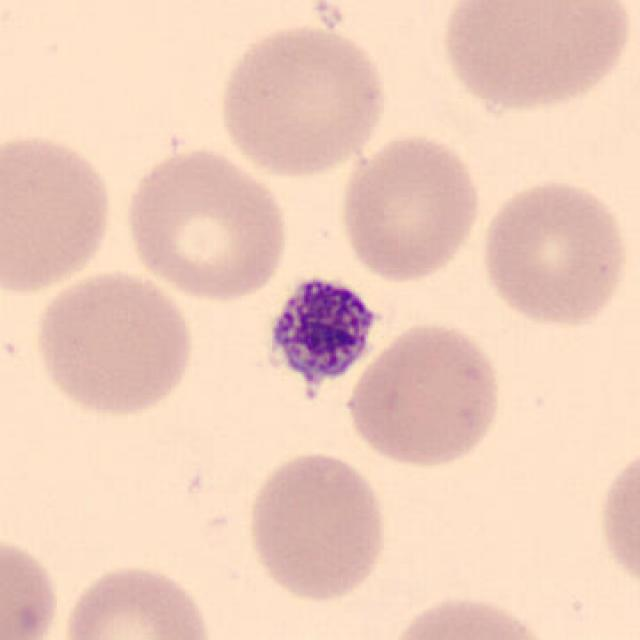Platelets: (254, 266, 386, 411)
RBC: (213, 19, 391, 180), (119, 143, 293, 303), (29, 266, 199, 420), (342, 316, 508, 470), (475, 171, 631, 331), (433, 0, 636, 116), (242, 448, 391, 606), (336, 130, 485, 286), (0, 127, 119, 298), (57, 559, 220, 640), (382, 589, 560, 640), (592, 436, 640, 600), (0, 527, 64, 640)
